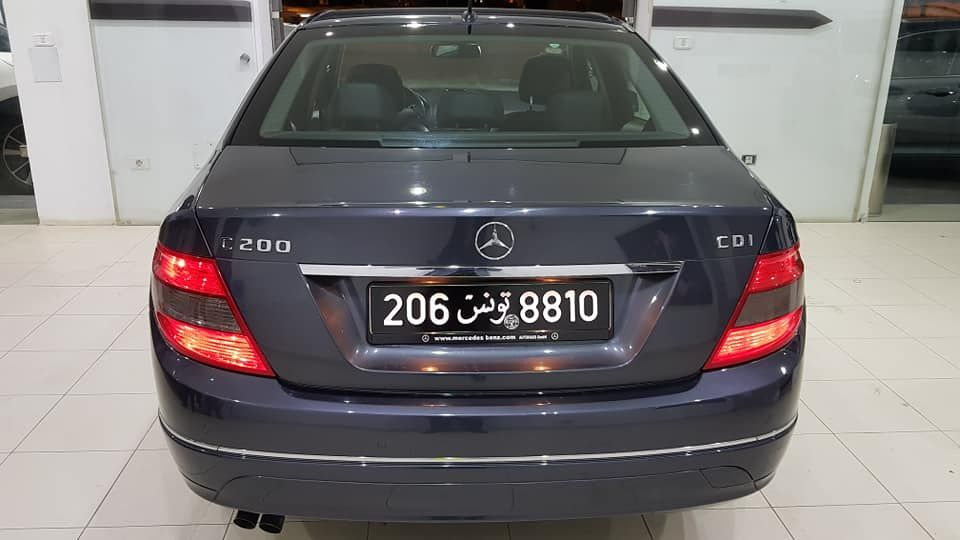LP: (366, 281, 614, 339)
